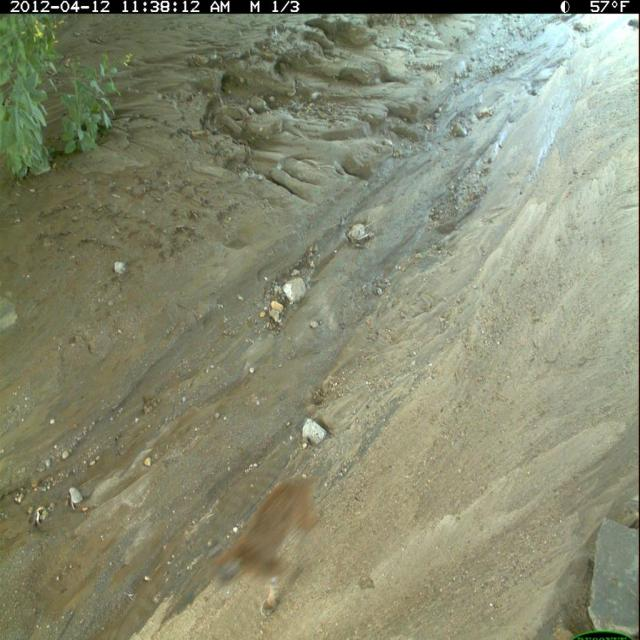bobcat: (210, 472, 330, 622)
